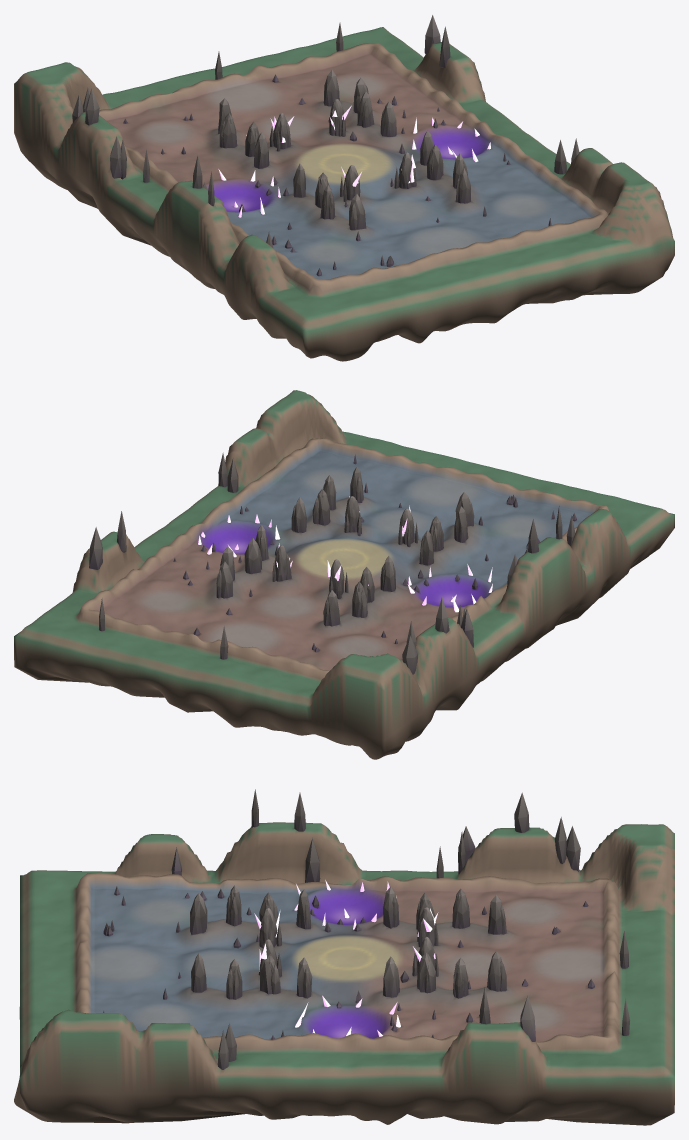
Rendered from battlefield.glb.
3 views of the same model, one above another, from view 1: azimuth 30°, elevation 25°; view 2: azimuth 150°, elevation 25°; view 3: azimuth 270°, elevation 25° (orthographic). The views are drawn at different scales.
Visible parts, largest first — view 1: Island, Rocks, Crystals; view 2: Island, Rocks, Crystals; view 3: Island, Rocks, Crystals.
Part boxes in pixels (x1,y1,x2,y2): Island: (14, 27, 674, 361); Rocks: (72, 15, 579, 276); Crystals: (218, 105, 490, 217); Island: (14, 390, 674, 759); Rocks: (89, 452, 576, 674); Crystals: (198, 496, 492, 612); Island: (14, 822, 674, 1125); Rocks: (103, 789, 629, 1069); Crystals: (254, 880, 438, 1036).
Bounding box in the file's own units: 12.85 × 6.54 × 17.54.
